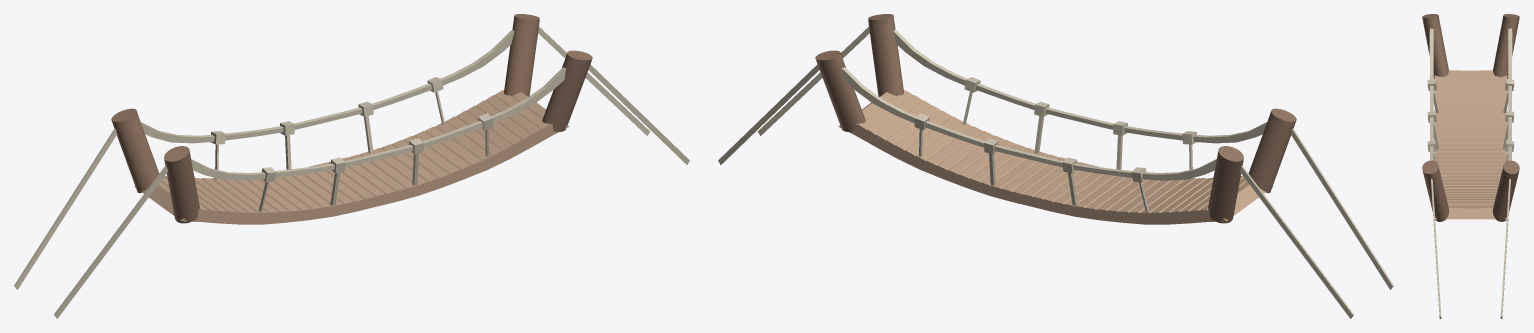
File: bridge.fbx
The picture shows the model from 3 angles, left to right: view 1: azimuth 30°, elevation 25°; view 2: azimuth 150°, elevation 25°; view 3: azimuth 270°, elevation 25°; orthographic projection. The views are drawn at different scales.
Parts seen in each view (by area): view 1: Bridge; view 2: Bridge; view 3: Bridge.
Part boxes in pixels (left/top/right/bottom): Bridge: left=14, top=14, right=689, bottom=318; Bridge: left=718, top=14, right=1393, bottom=318; Bridge: left=1422, top=14, right=1519, bottom=318.
Size of the model in its own units: 11.85 by 2.59 by 2.05.
